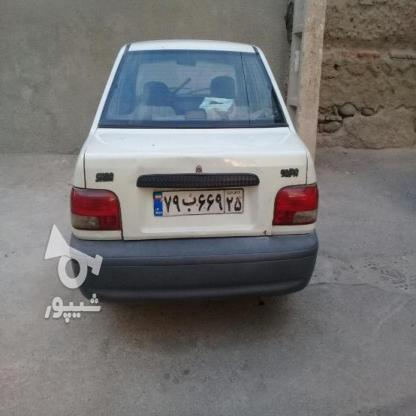licence: (152, 191, 242, 214)
